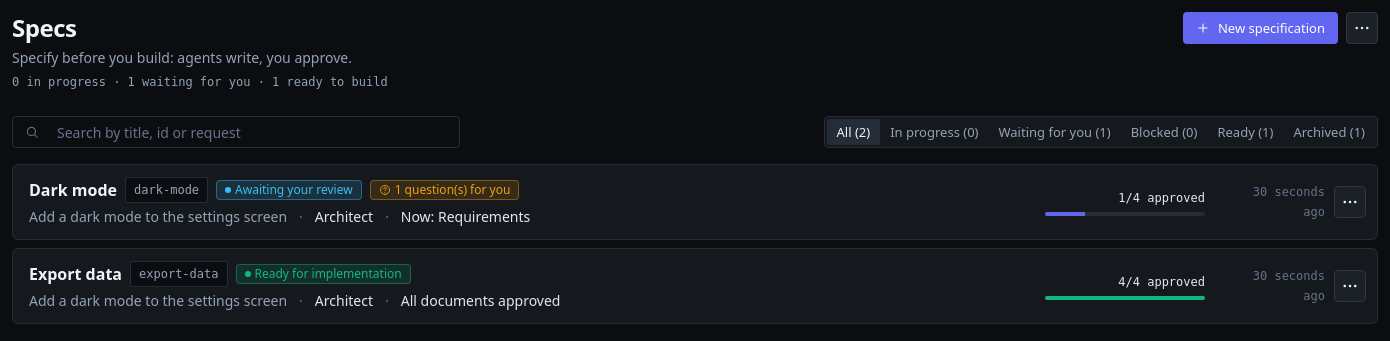
Test: the Specs overview › shows where each spec is, how far, and what waits for the person
The width and height of the screenshot is (1390, 341).
Check: the text "Awaiting your review" is shown, box [216, 180, 362, 200]
Check: the text "1/4 approved" is shown, box [1118, 188, 1205, 208]
Step 1. Click the button "Ready (1)" → click(1246, 132), box [1208, 119, 1284, 145]
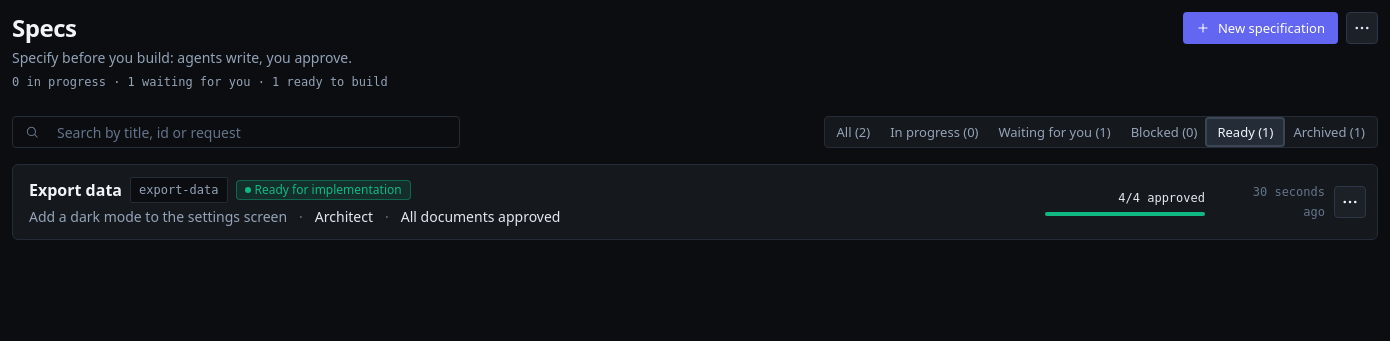
Check: the button "Export data" is shown, box [12, 164, 1378, 240]
Step 2. Click the button "Archived (1)" → click(1329, 132), box [1283, 119, 1375, 145]
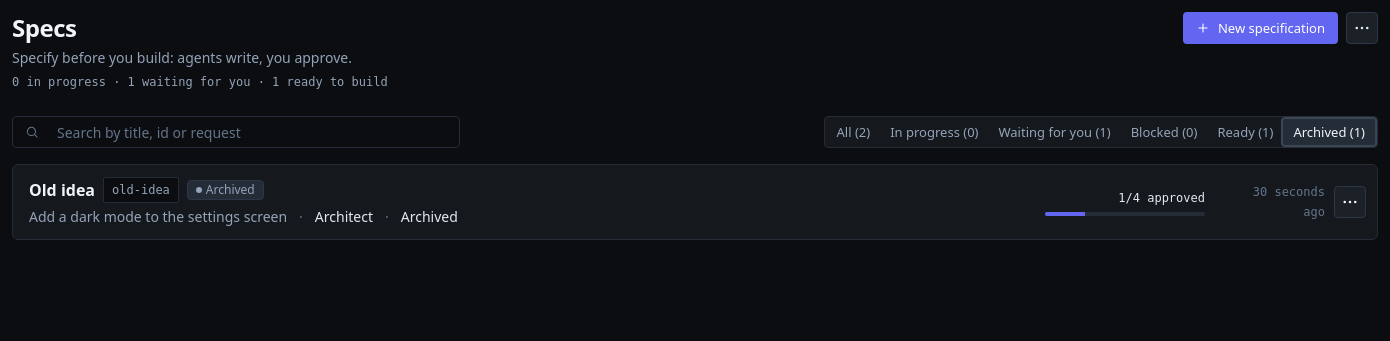
Check: the button "Old idea" is shown, box [12, 164, 1378, 240]
Step 3. Click the button "All (2)" → click(853, 132), box [826, 119, 880, 145]
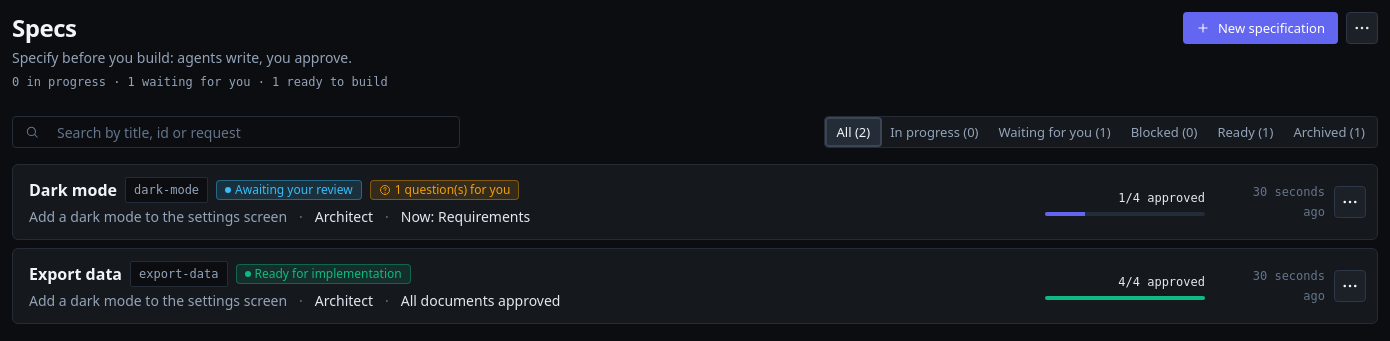
Step 4. Type "export" into the search field → (247, 132), box [47, 116, 447, 148]
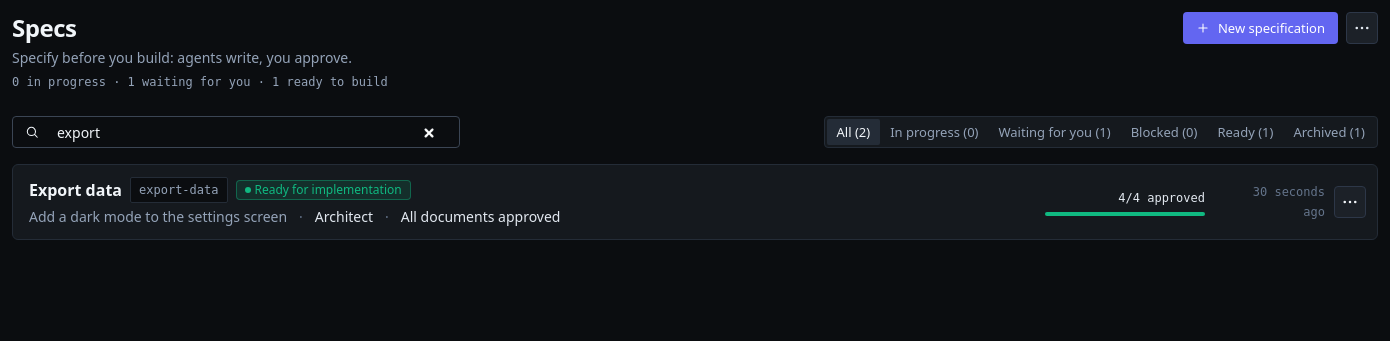
Check: the button "Export data" is shown, box [12, 164, 1378, 240]
Step 5. Replace the text in the search field with "zzz" → (247, 132), box [47, 116, 447, 148]
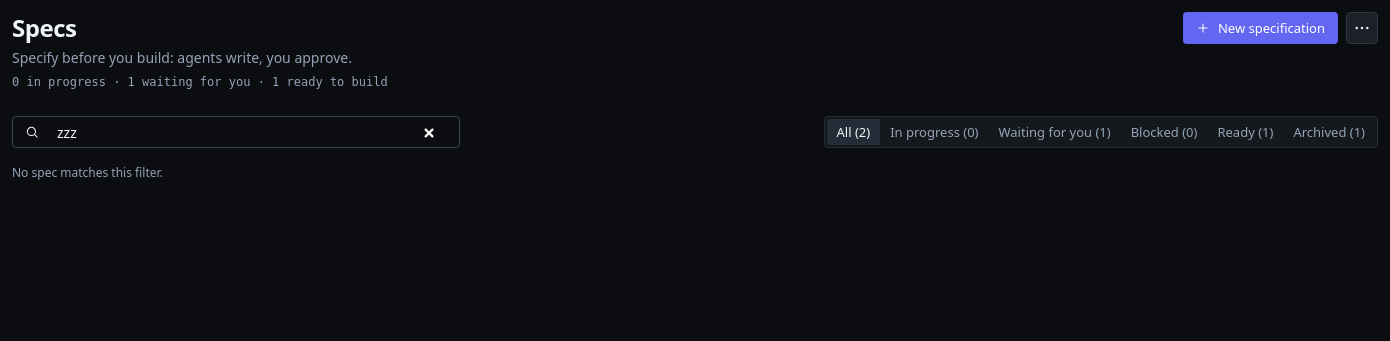
Check: the text "No spec matches this filter." is shown, box [12, 164, 163, 181]
